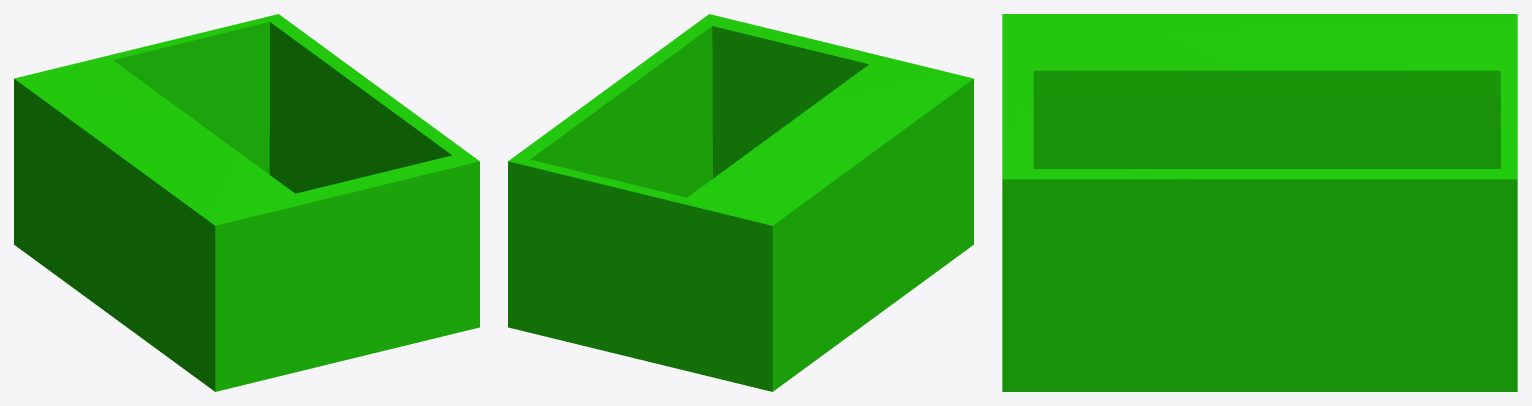
Rendered from SM_Shelf_05_Collider.fbx.
3 renders of one model, left to right at view 1: azimuth 30°, elevation 25°; view 2: azimuth 150°, elevation 25°; view 3: azimuth 270°, elevation 25°, orthographic. The views are drawn at different scales.
Visible parts, largest first — view 1: SM_Shelf_05_Collider; view 2: SM_Shelf_05_Collider; view 3: SM_Shelf_05_Collider.
Part boxes in pixels (<box>): SM_Shelf_05_Collider: <box>14,14,479,391</box>; SM_Shelf_05_Collider: <box>508,14,973,391</box>; SM_Shelf_05_Collider: <box>1002,14,1517,391</box>.
Size of the model in its own units: 70.77 by 42.63 by 93.23.
